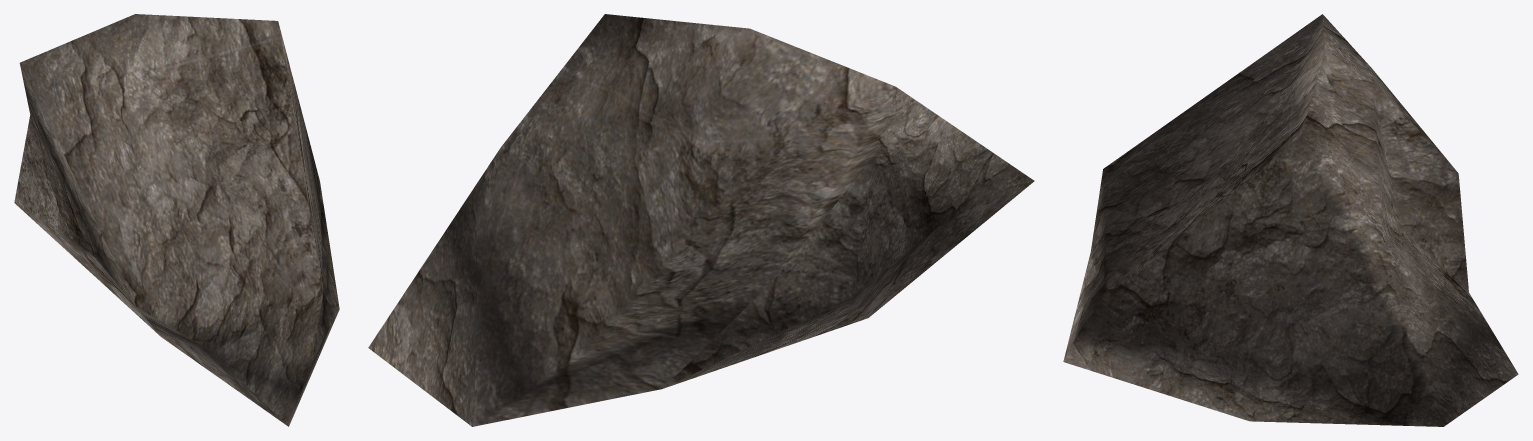
Rendered from rock1.fbx.
The picture shows the model from 3 angles, left to right: view 1: azimuth 30°, elevation 25°; view 2: azimuth 150°, elevation 25°; view 3: azimuth 270°, elevation 25°; orthographic projection. The views are drawn at different scales.
Parts seen in each view (by area): view 1: rock1:pSolid3; view 2: rock1:pSolid3; view 3: rock1:pSolid3.
Boxes of the visible parts, x1,y1,x2,y2 form: rock1:pSolid3: (14,14,339,426); rock1:pSolid3: (368,14,1034,426); rock1:pSolid3: (1063,14,1518,426).
Size of the model in its own units: 13.8 by 11.5 by 15.62.
1 material, 1 textured.
